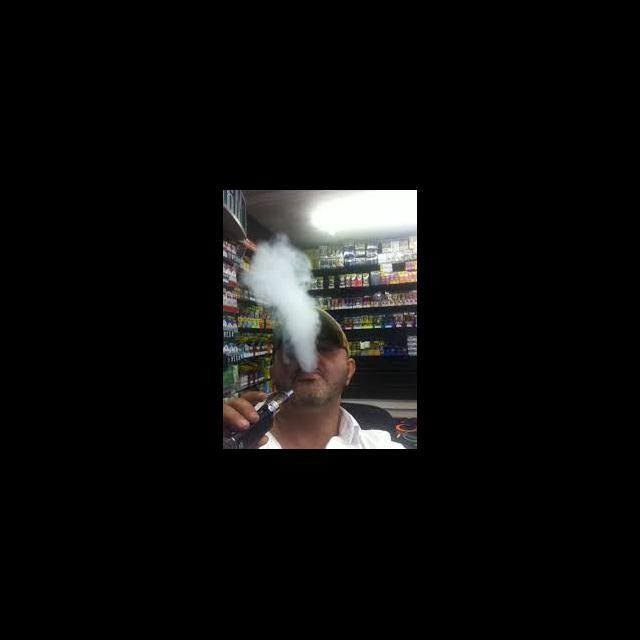Smoke: (242, 233, 319, 372)
